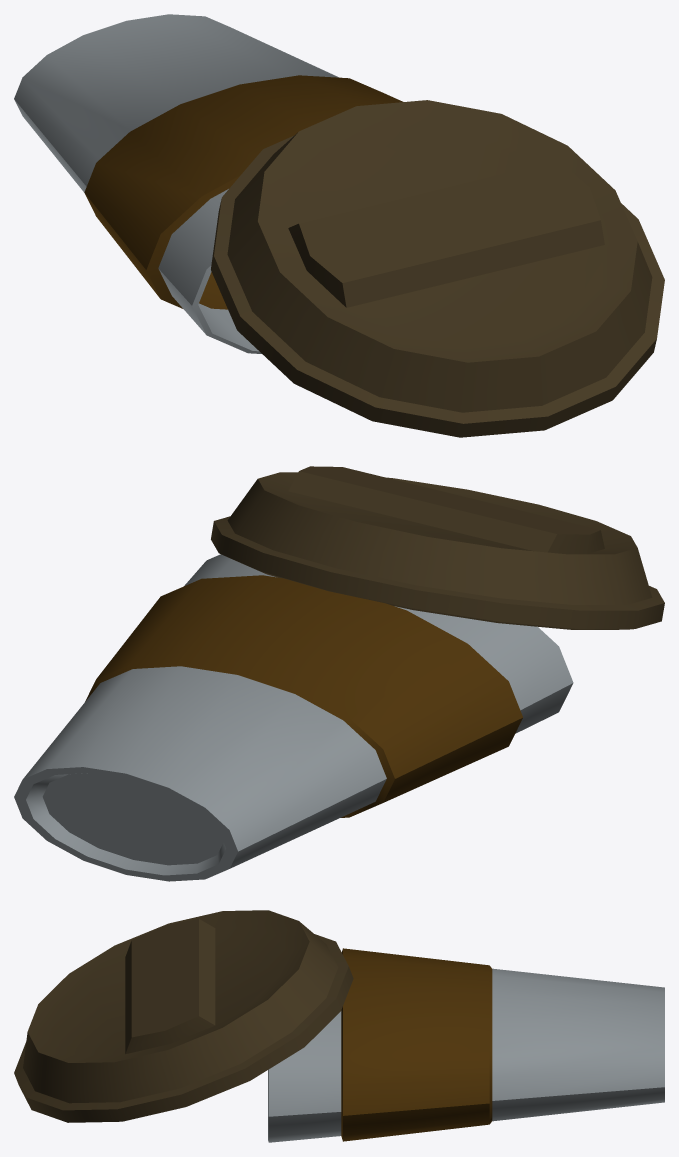
File: Vaso_Carton_03.fbx
The picture shows the model from 3 angles, top to bottom: view 1: azimuth 30°, elevation 25°; view 2: azimuth 150°, elevation 25°; view 3: azimuth 270°, elevation 25°; orthographic projection. The views are drawn at different scales.
Parts seen in each view (by area): view 1: Vaso_Carton_03; view 2: Vaso_Carton_03; view 3: Vaso_Carton_03.
Boxes of the visible parts, x1,y1,x2,y2 form: Vaso_Carton_03: (14, 14, 664, 437); Vaso_Carton_03: (14, 466, 664, 881); Vaso_Carton_03: (14, 910, 664, 1142).
Bounding box in the file's own units: 40.05 × 21.14 × 73.45.
